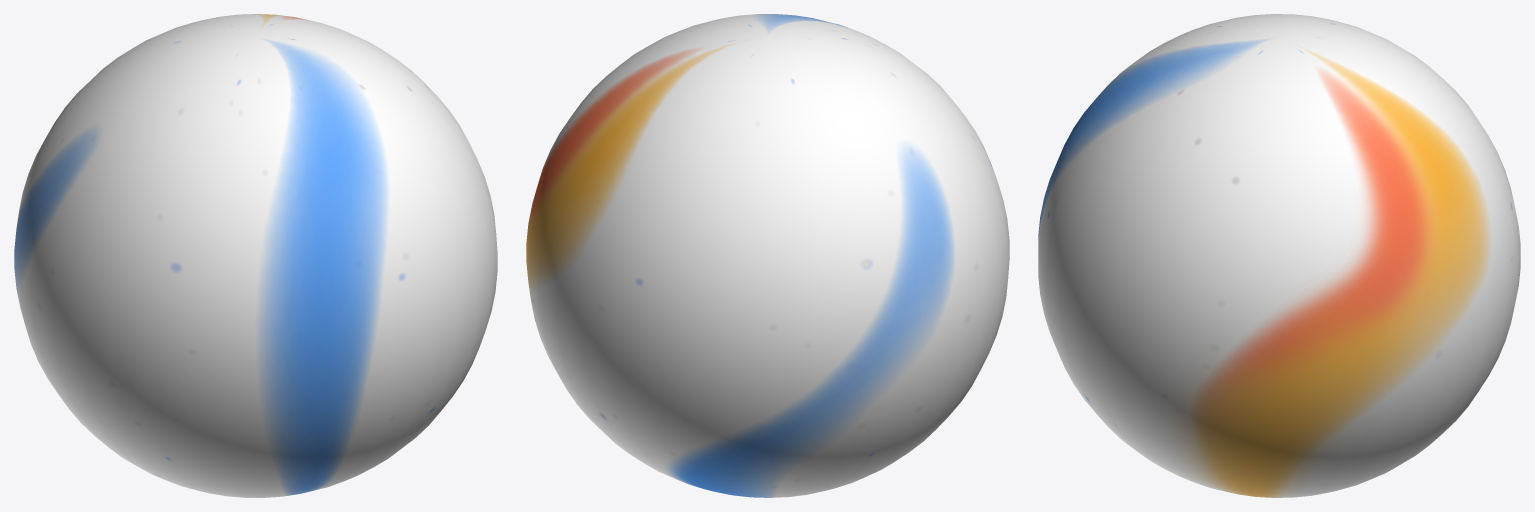
The model's file is Baby_White.fbx.
3 views of the same model, side by side, from view 1: azimuth 30°, elevation 25°; view 2: azimuth 150°, elevation 25°; view 3: azimuth 270°, elevation 25° (orthographic).
Visible parts, largest first — view 1: Baby White; view 2: Baby White; view 3: Baby White.
Boxes of the visible parts, <box> form: Baby White: <box>14,14,497,497</box>; Baby White: <box>526,14,1009,497</box>; Baby White: <box>1038,14,1520,497</box>.
Bounding box in the file's own units: 200 × 200 × 199.
1 material, 1 textured.
